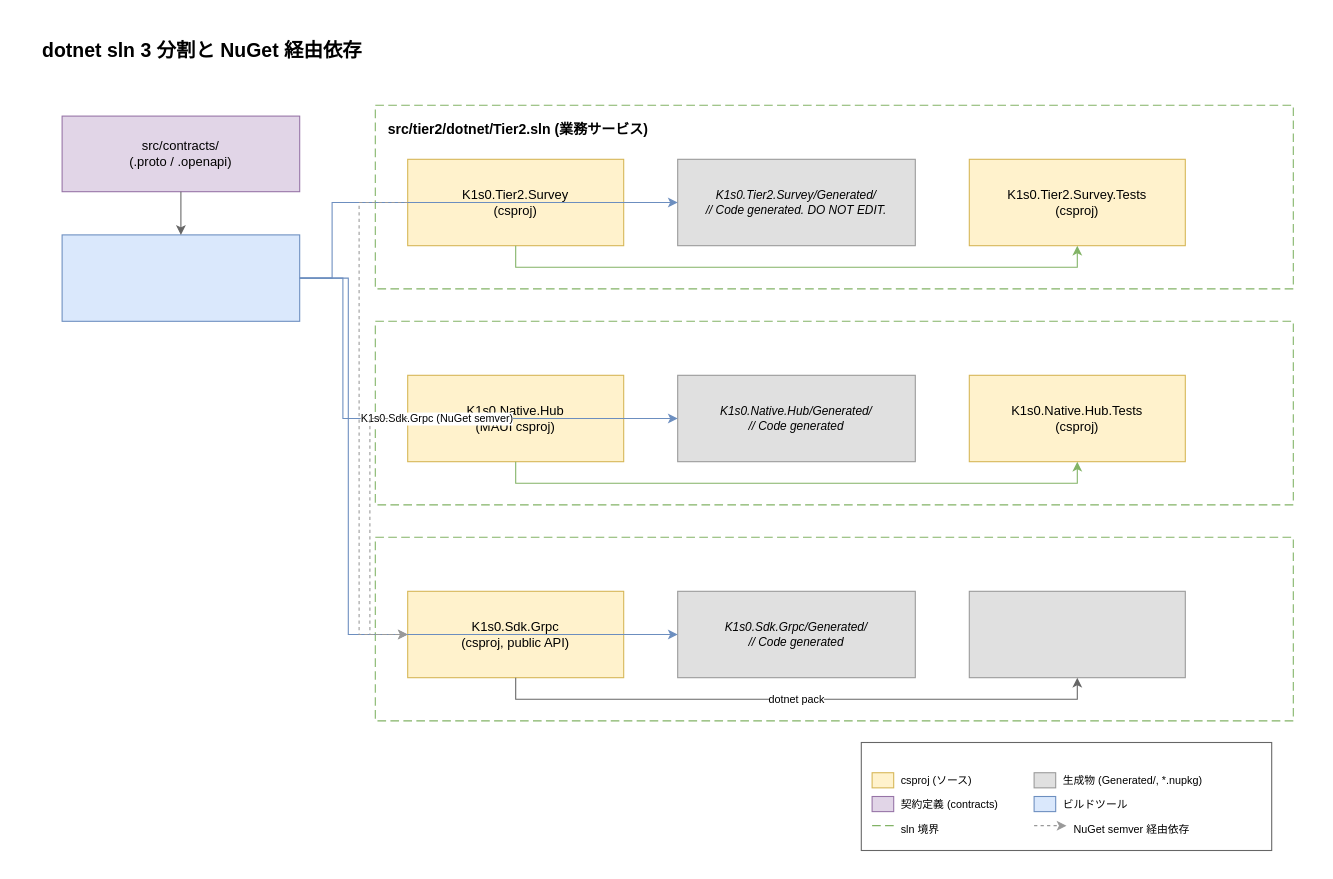
This 1333x879 diagram has some shape labels left out. Each missing label, with the box of its shape:
bin/Release/*.nupkg (dotnet pack 出力): (968, 590, 1185, 678)
buf generate protoc-gen-grpc-csharp (20_コード生成設計): (61, 234, 300, 321)
src/sdk/dotnet/Sdk.sln (NuGet 配布): (374, 536, 1293, 721)
src/tier3/native/Native.sln (MAUI / WPF): (374, 320, 1293, 505)
凡例: (860, 741, 1272, 850)
